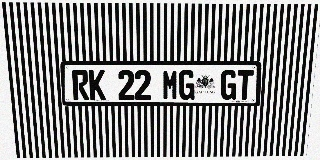2: (118, 70, 134, 100), (135, 70, 151, 100)
G: (220, 70, 237, 100), (179, 70, 195, 100)
K: (89, 70, 106, 100)
M: (162, 70, 178, 100)
R: (72, 70, 89, 100)
T: (236, 70, 254, 100)
